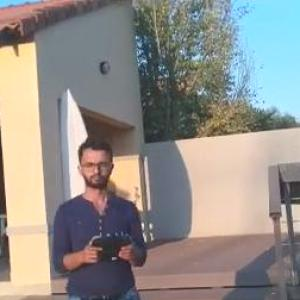follow: (49, 133, 159, 299)
